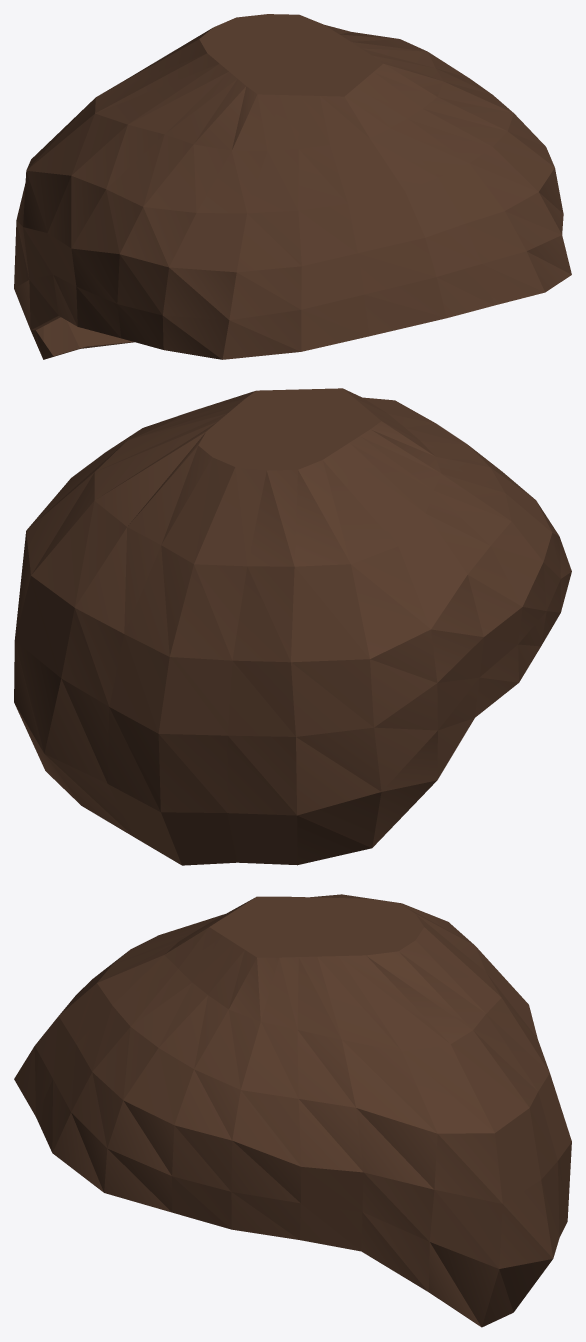
The model's file is medio_revisado_r36.glb.
3 views of the same model, one above another, from view 1: azimuth 30°, elevation 25°; view 2: azimuth 150°, elevation 25°; view 3: azimuth 270°, elevation 25° (orthographic).
Visible parts, largest first — view 1: R19_medio_blocado; view 2: R19_medio_blocado; view 3: R19_medio_blocado.
Part boxes in pixels (x1,y1,x2,y2): R19_medio_blocado: (14,14,571,359); R19_medio_blocado: (14,388,571,865); R19_medio_blocado: (14,894,571,1327).
Bounding box in the file's own units: 0.239 × 0.1827 × 0.256.
